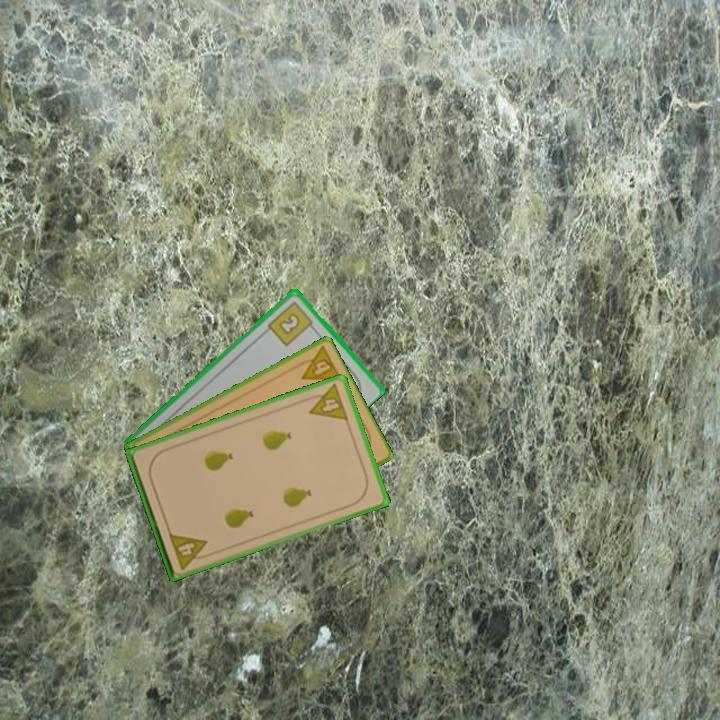2b: (264, 297, 318, 349)
4p: (290, 343, 344, 384), (302, 380, 351, 424), (165, 529, 213, 572)
